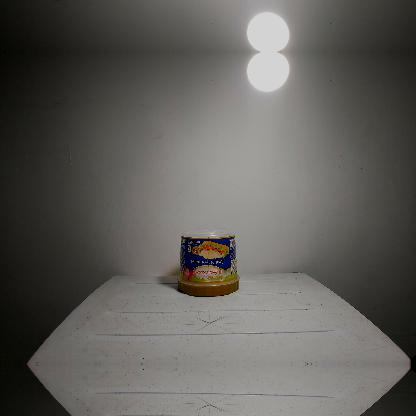Lady-s-Choice: (177, 226, 241, 296)
